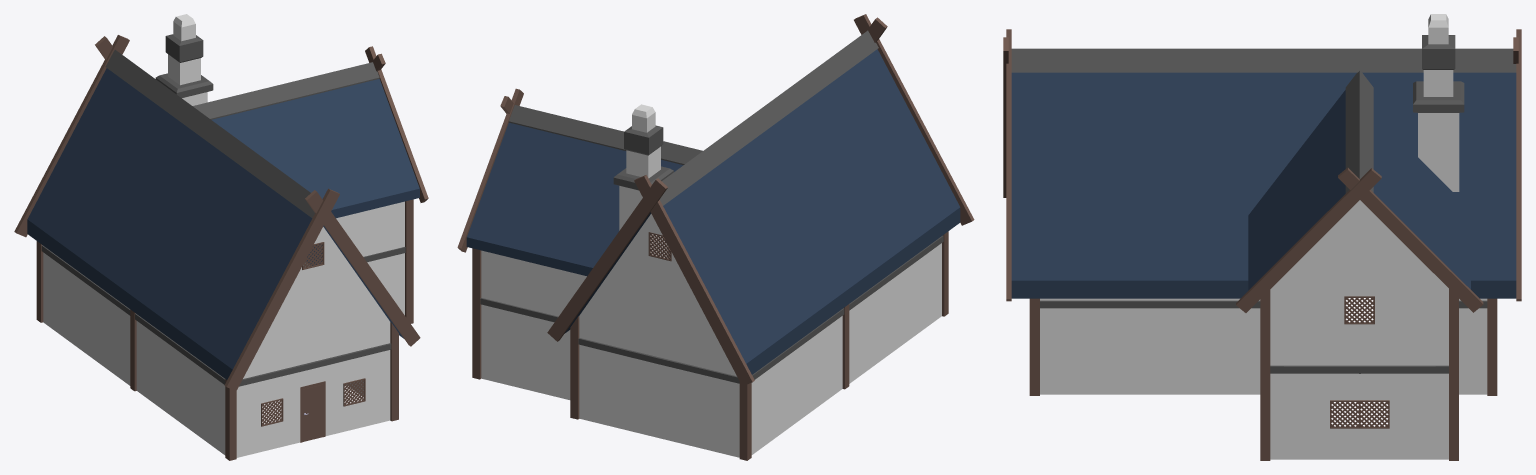
Rendered from Dungeon_House3.fbx.
The picture shows the model from 3 angles, left to right: view 1: azimuth 30°, elevation 25°; view 2: azimuth 150°, elevation 25°; view 3: azimuth 270°, elevation 25°; orthographic projection. The views are drawn at different scales.
Parts seen in each view (by area): view 1: Room.001, Room, Room.002, Room.004, Room.006, Cube, Cube.015, Room.005, Cube.001, Cube.002, Cube.012, Door (+6 smaller); view 2: Room.001, Room, Room.002, Room.004, Cube.015, Room.005, Cube.002, Room.006, Cube.003, Cube, Cube.014, Cube.010 (+4 smaller); view 3: Room.001, Room, Room.002, Room.004, Cube.015, Room.005, Cube.009, Room.006, Cube.010, Cube.012, Cube.014, Cube.001 (+7 smaller).
Part boxes in pixels (x1,y1,x2,y2): Room.001: (27, 68, 403, 379); Room: (43, 201, 404, 457); Room.002: (212, 79, 419, 218); Room.004: (105, 49, 314, 218); Room.006: (193, 62, 379, 119); Cube: (224, 188, 339, 390); Cube.015: (155, 14, 213, 105); Room.005: (41, 245, 405, 386); Cube.001: (305, 190, 420, 346); Cube.002: (14, 35, 129, 237); Cube.012: (405, 199, 413, 323); Door: (303, 384, 322, 441); Room.001: (564, 49, 960, 374); Room: (481, 214, 941, 457); Room.002: (466, 122, 683, 275); Room.004: (659, 30, 878, 205); Cube.015: (613, 104, 673, 257); Room.005: (480, 235, 943, 383); Cube.002: (634, 175, 754, 386); Room.006: (508, 105, 702, 164); Cube.003: (547, 178, 667, 341); Cube: (854, 14, 974, 225); Cube.014: (472, 248, 481, 379); Cube.010: (457, 88, 523, 252); Room.001: (1011, 72, 1516, 298); Room: (1040, 200, 1487, 459); Room.002: (1248, 90, 1470, 290); Room.004: (1011, 48, 1516, 72); Cube.015: (1413, 14, 1464, 191); Room.005: (1040, 300, 1487, 373); Cube.009: (1236, 168, 1381, 312); Room.006: (1345, 70, 1373, 193); Cube.010: (1338, 167, 1483, 312); Cube.012: (1260, 290, 1270, 460); Cube.014: (1449, 289, 1458, 460); Cube.001: (1006, 29, 1011, 301).
Bounding box in the file's own units: 1357 × 1263 × 1686.
